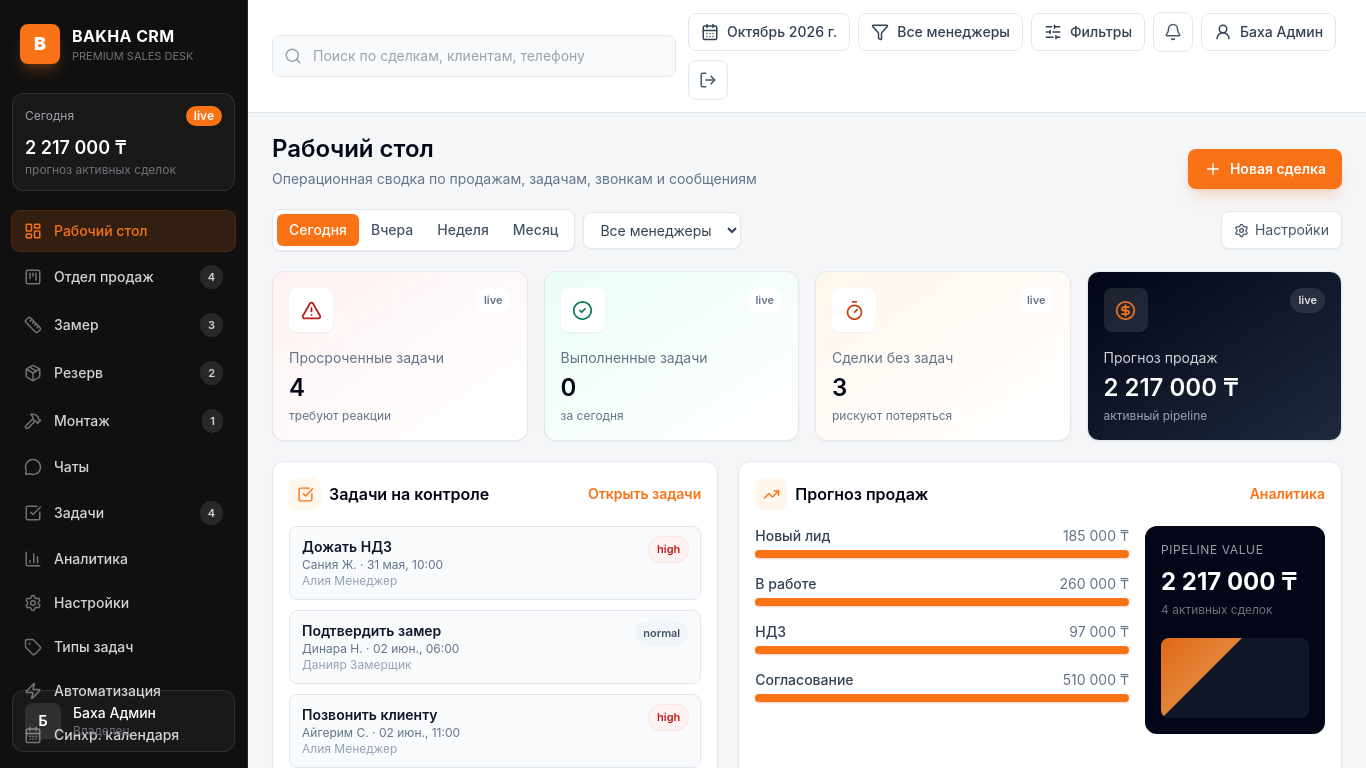
Test case: Bakha CRM smoke › notification bell opens dropdown with Нет уведомлений
Expected: the heading "Рабочий стол" is shown, [272,134,434,163]
Click the button named "Уведомления".
click(1173, 32)  # box [1153,12,1193,52]
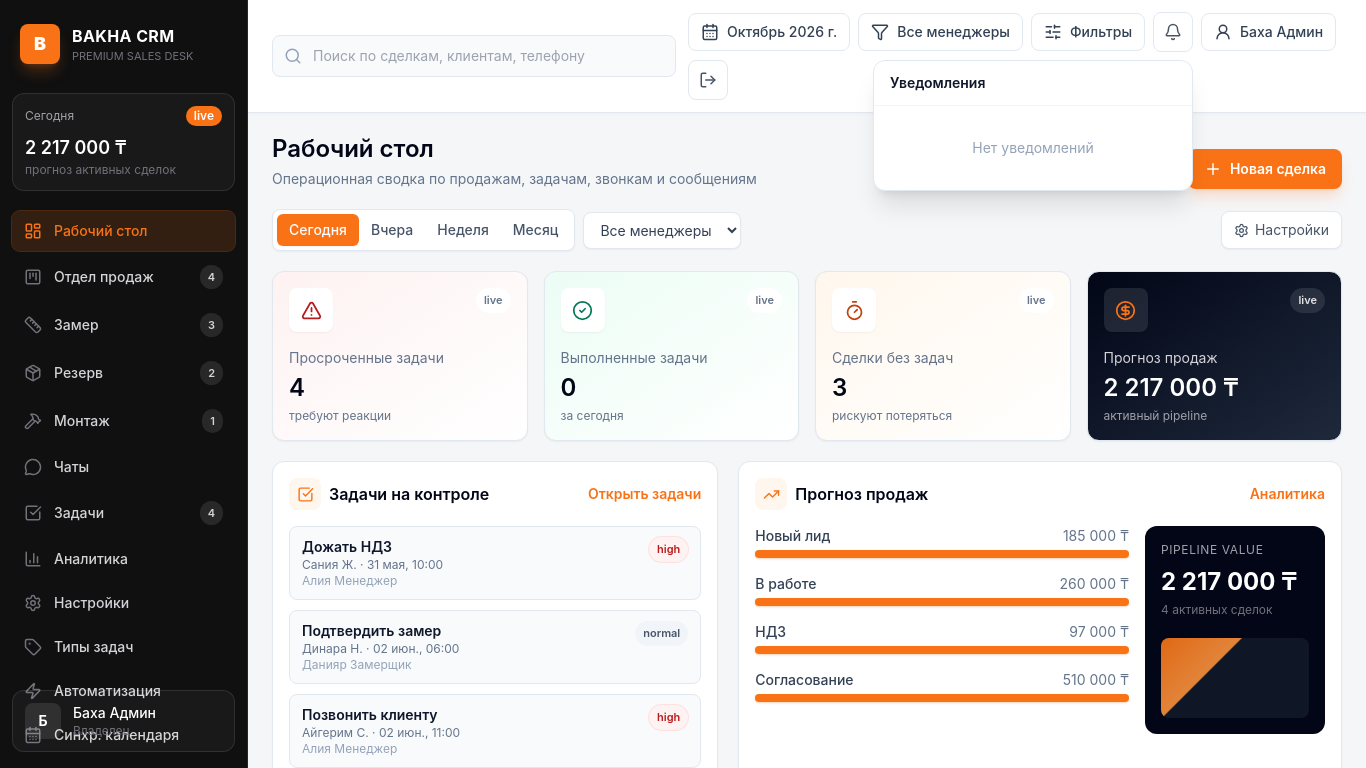
Now the heading "Уведомления" is shown, box [890,73,985,93]
Now the text "Нет уведомлений" is shown, box [972,139,1094,156]
